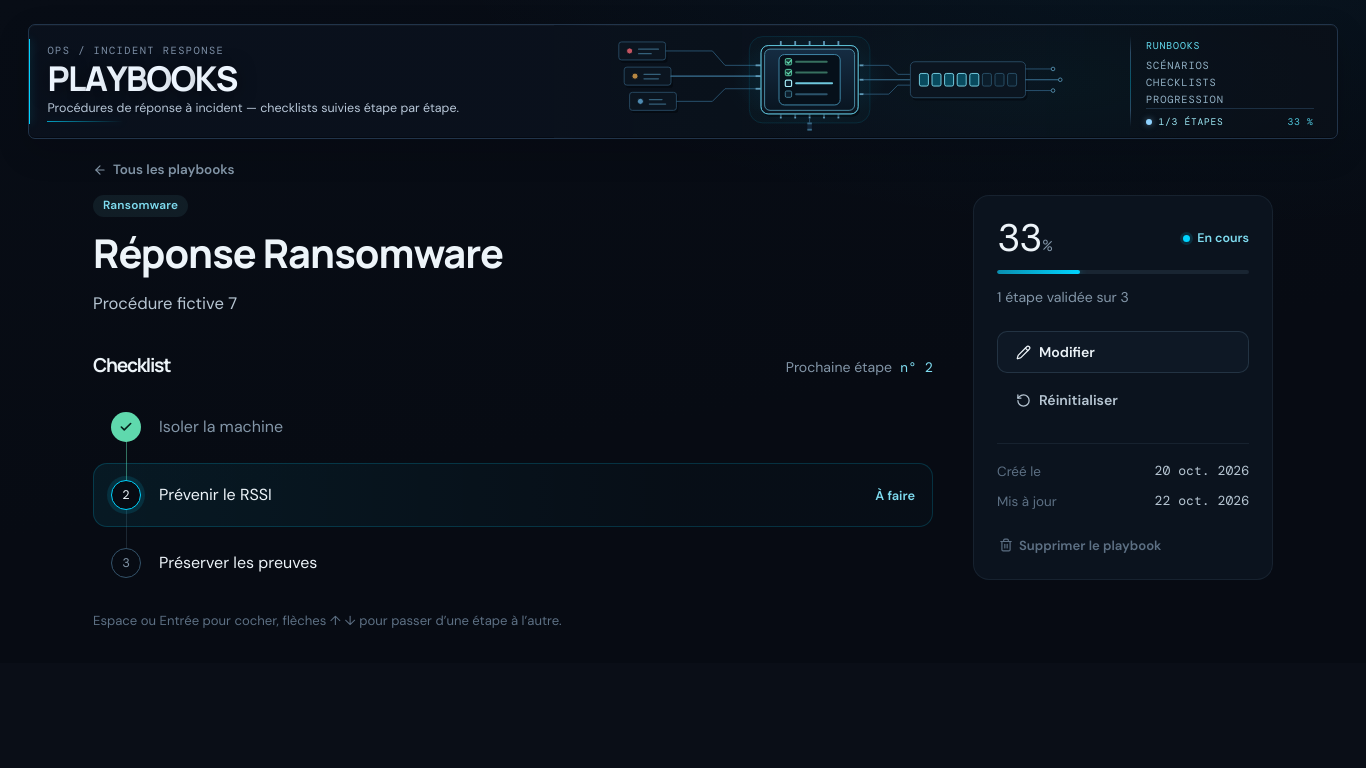
Test: Playbooks 2026 — détail et checklist › applique la valeur renvoyée par le serveur et met à jour la progression
Expected: the heading "Réponse Ransomware" is shown, [93, 226, 503, 280]
Step 1. Click the checkbox labelled "2 Prévenir le RSSI À faire" → (215, 494), box [93, 463, 933, 527]
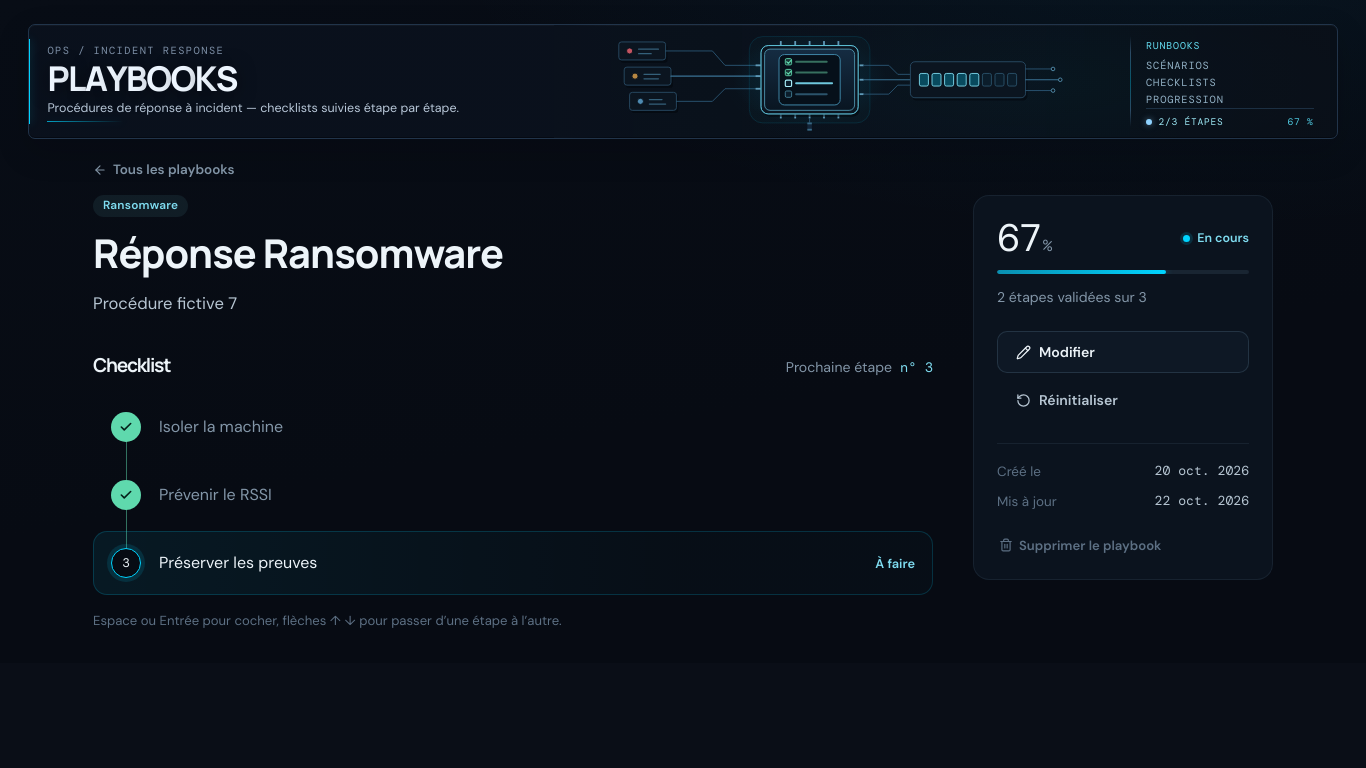
Result: the picture named "2 étapes validées sur 3, 67 %" is shown at [997, 270, 1249, 274]
